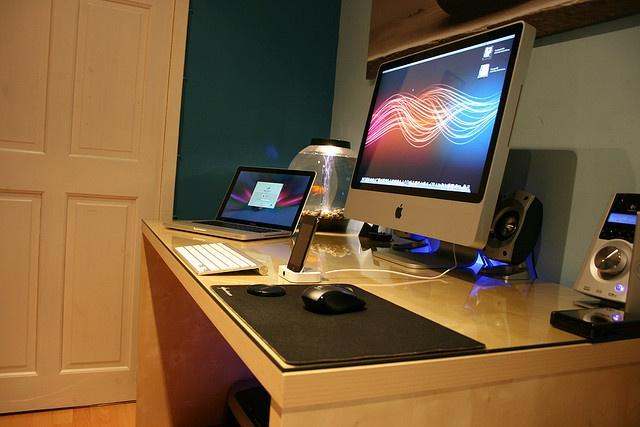AIO PC-Monitor-TV: (340, 19, 536, 268)
Meja: (133, 217, 639, 426)
